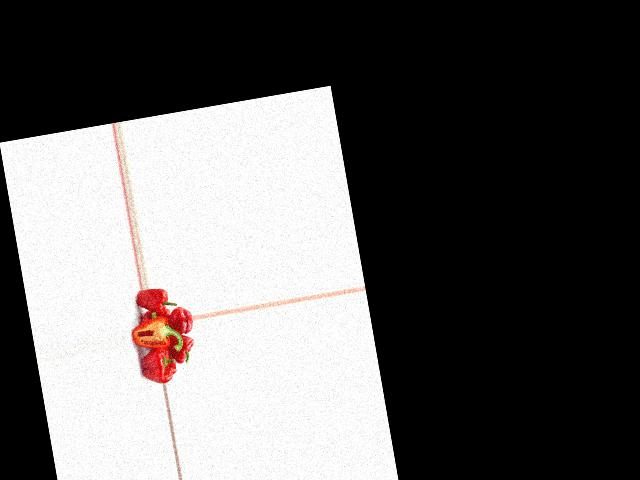bell_pepper: (168, 331, 197, 365)
